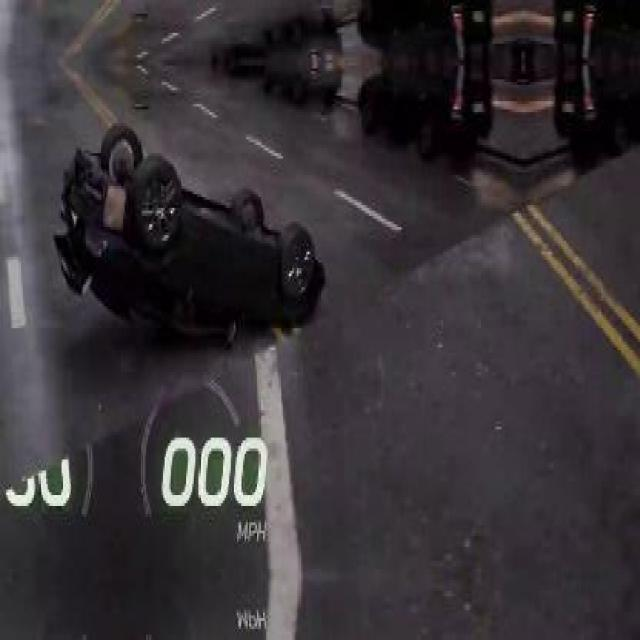accident: (54, 118, 329, 358)
